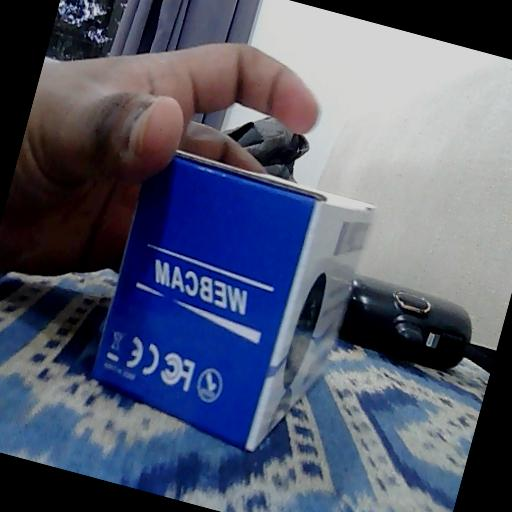webcam_box: (78, 142, 377, 468)
